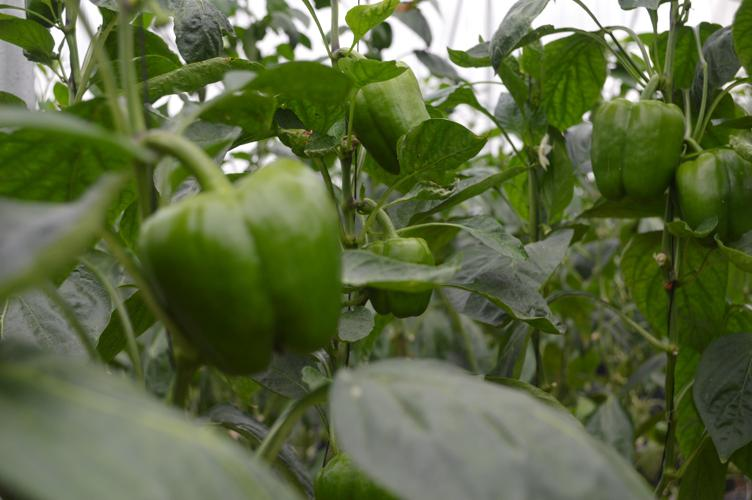BellPepper: (137, 173, 372, 362), (586, 94, 691, 227), (346, 55, 450, 179), (368, 226, 436, 326), (683, 143, 744, 249)
